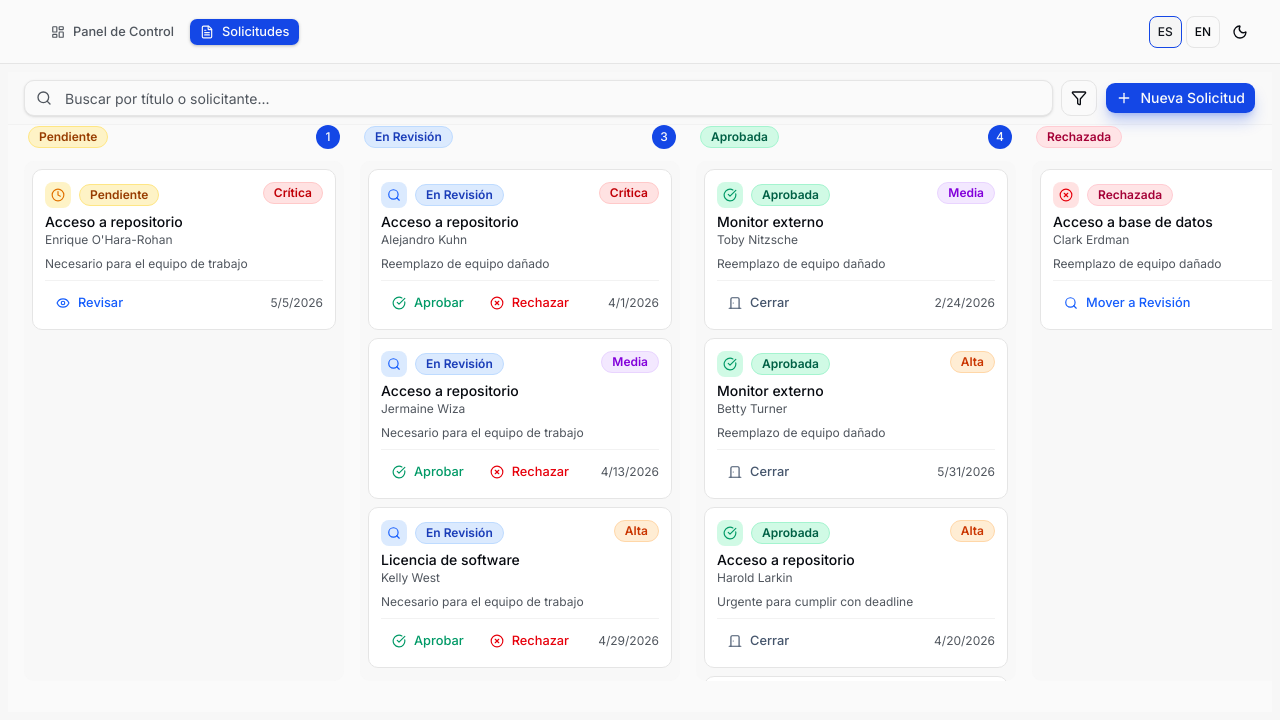
Solicitud CRUD › Editar Solicitud › debería actualizar el título y guardar
Click the element with test id "kanban-card": (184, 250) x1=32 y1=169 x2=336 y2=330
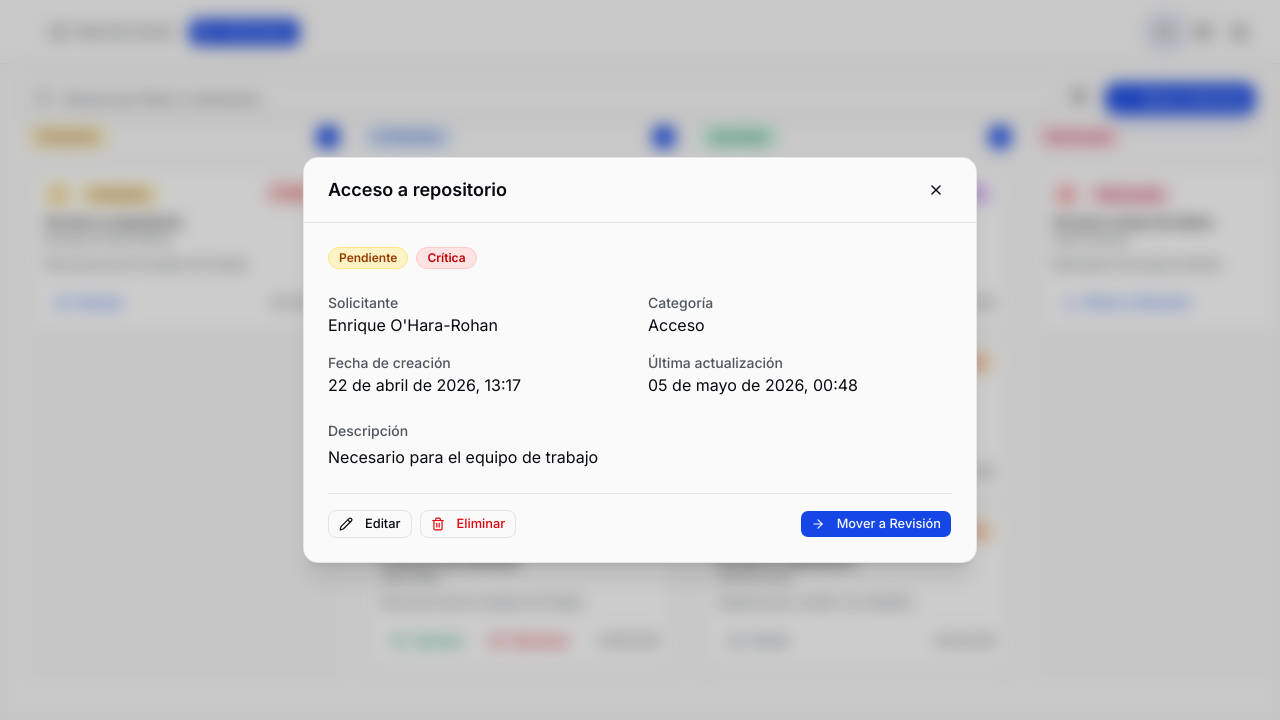
Click the button "Editar": (370, 524) x1=328 y1=510 x2=412 y2=538
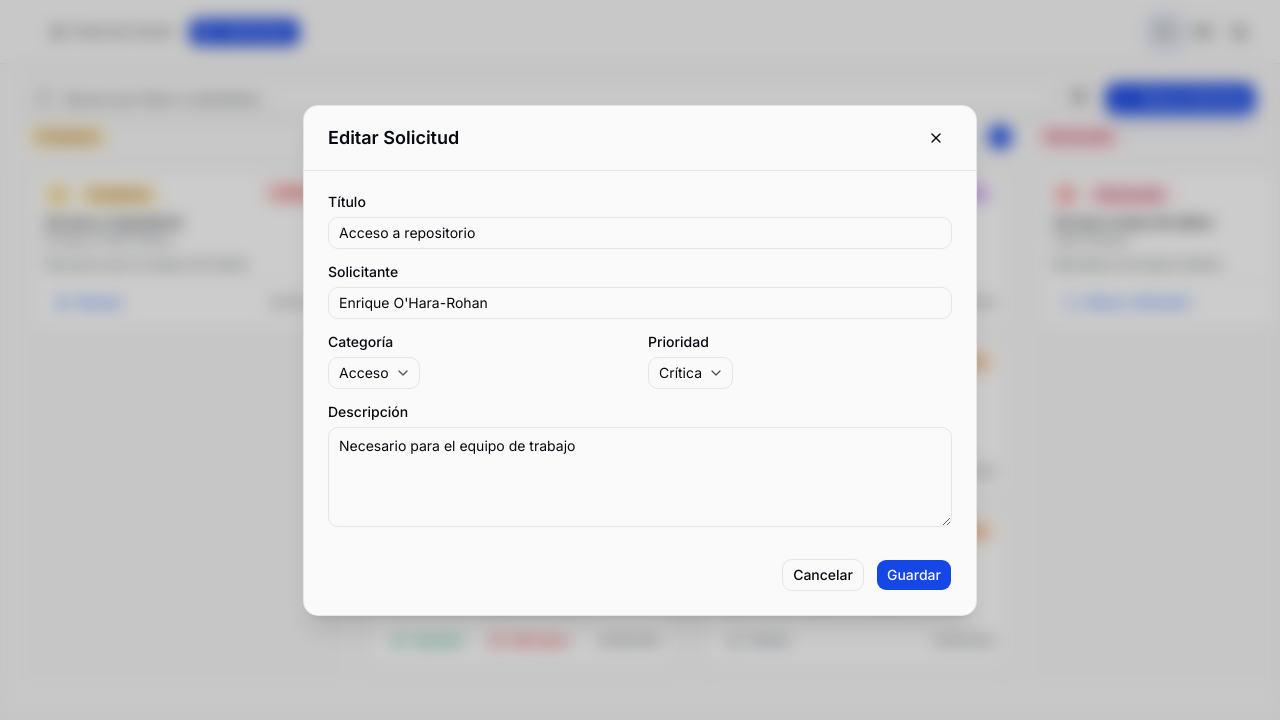
Replace the text in the field named "title" below "Título" with "Título Actualizado": (640, 233) x1=328 y1=217 x2=952 y2=249
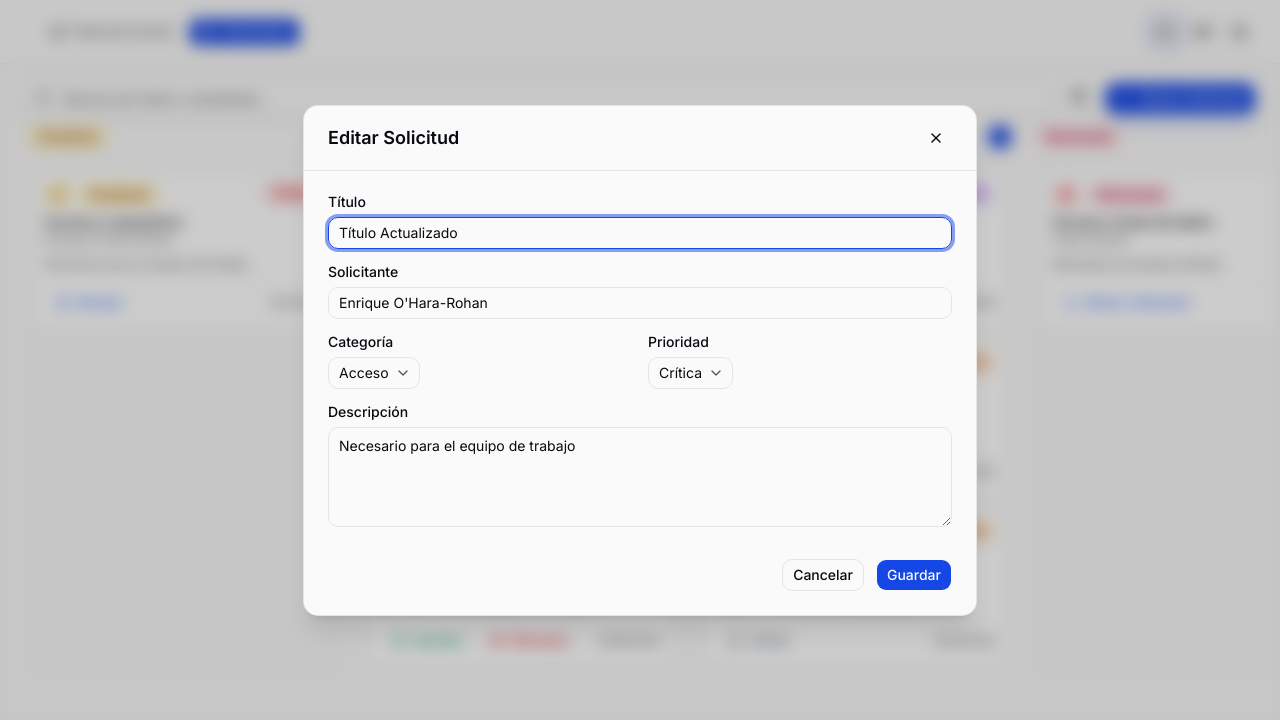
Click the button "Guardar": (914, 575) x1=876 y1=559 x2=952 y2=591
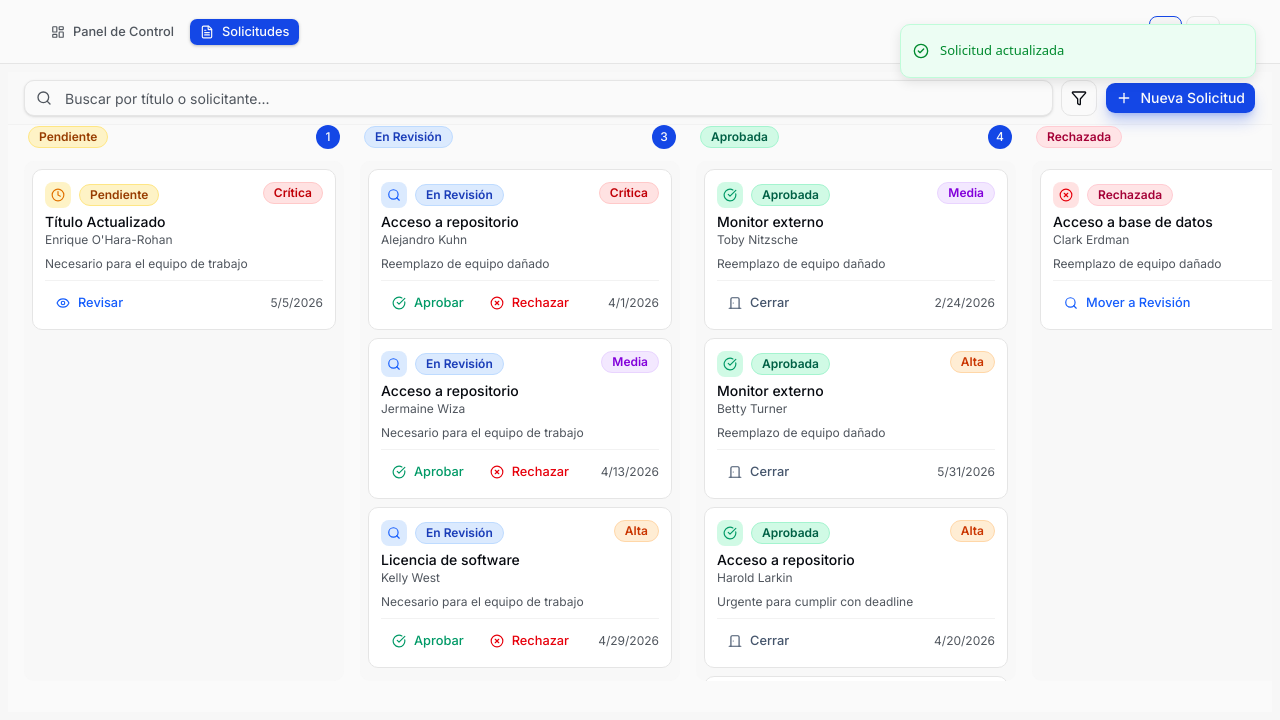
Expected: the text "Solicitud actualizada" is shown, x1=940 y1=41 x2=1064 y2=60
